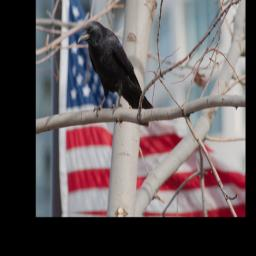Crow: (76, 19, 157, 122)
